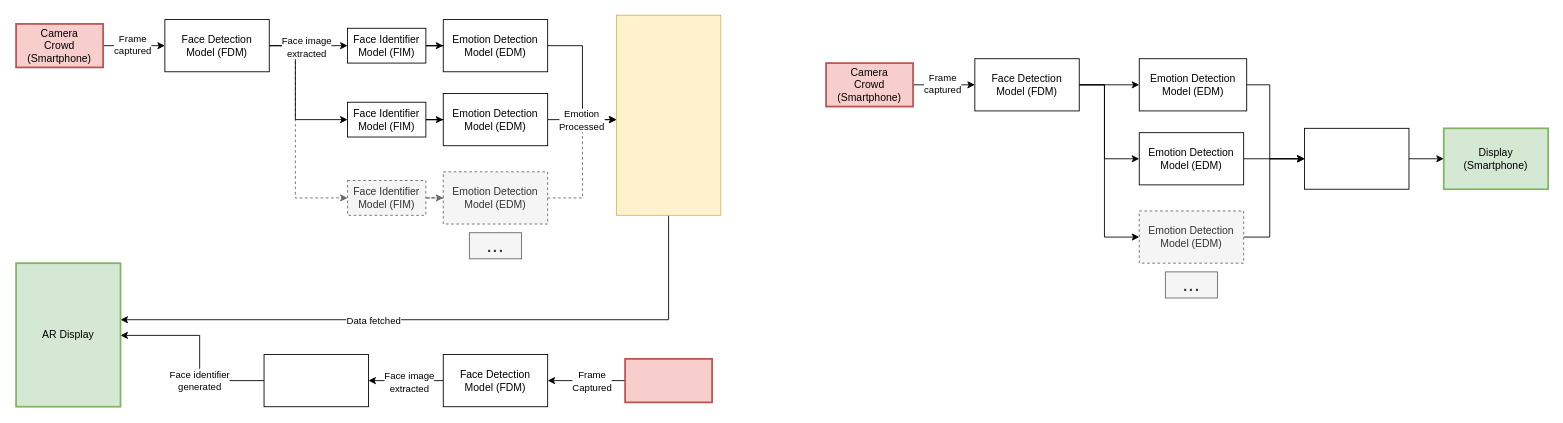
This 1563x423 diagram has some shape labels left out. The box of each missing label's shape, as (x1, y1, x2, y2) in pixels:
Camera Host (AR Glasses): (624, 358, 713, 403)
Data process: (1304, 127, 1409, 189)
Database: (616, 14, 721, 215)
Face identifier: (263, 354, 368, 407)
